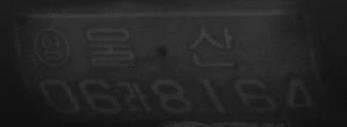0: (39, 78, 80, 114)
1: (193, 75, 230, 114)
4: (283, 76, 319, 113)
6: (233, 76, 278, 114), (80, 77, 121, 115)
8: (153, 77, 191, 115)
라: (121, 79, 152, 115)
영: (33, 26, 70, 67)
울산_D: (85, 27, 234, 67)
